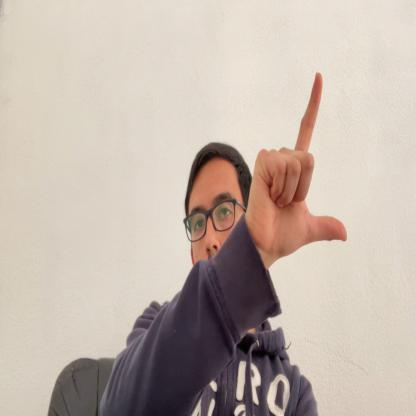L: (245, 70, 348, 255)
